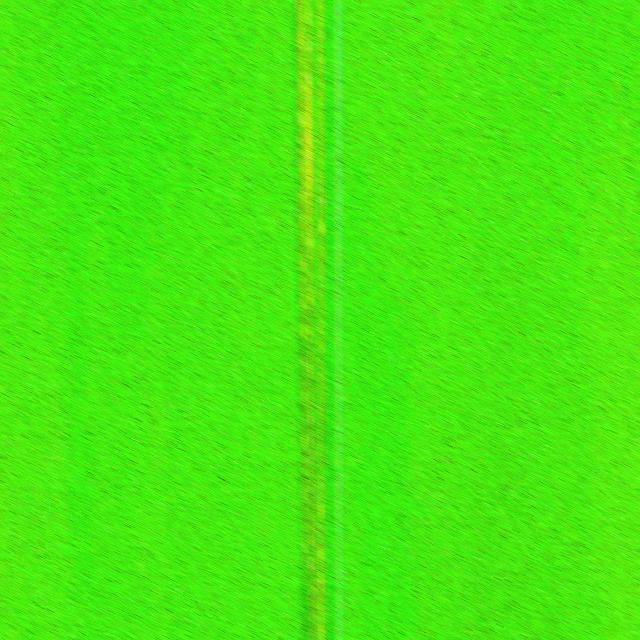BLS: (297, 0, 307, 636), (306, 0, 315, 638), (318, 0, 324, 638)
